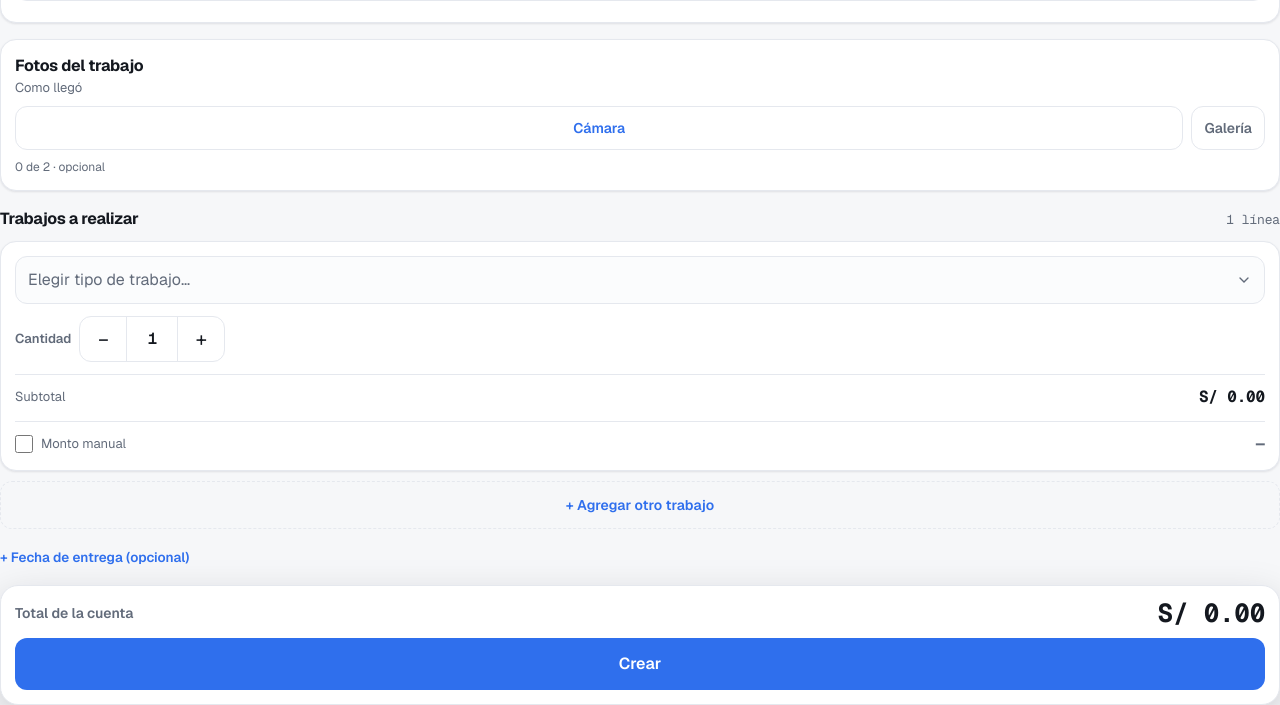
Test case: TrabajoForm — la fecha de entrega, plegada › se abre al tocarla y aparecen los atajos
(page scrolled)
Click the button "+ Fecha de entrega (opcional)".
click(95, 557)  # box [0, 546, 189, 567]
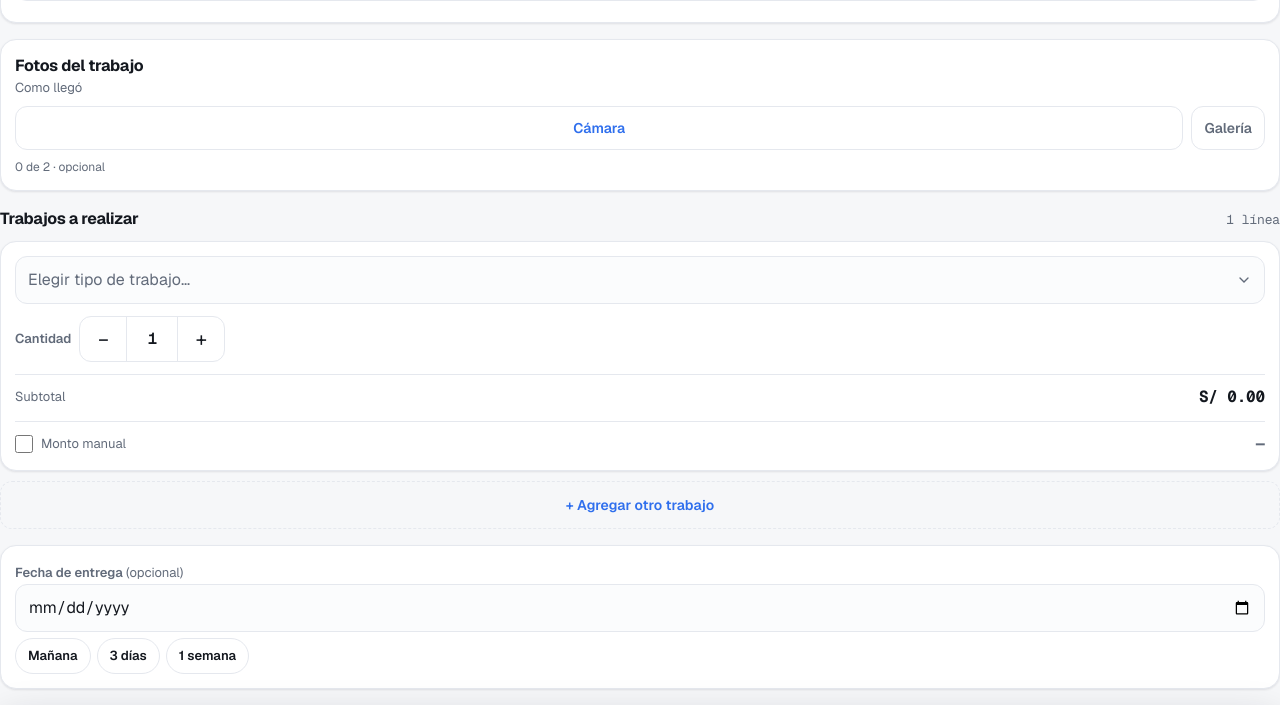
Expected: the button "Mañana" is shown, [15, 638, 90, 674]
